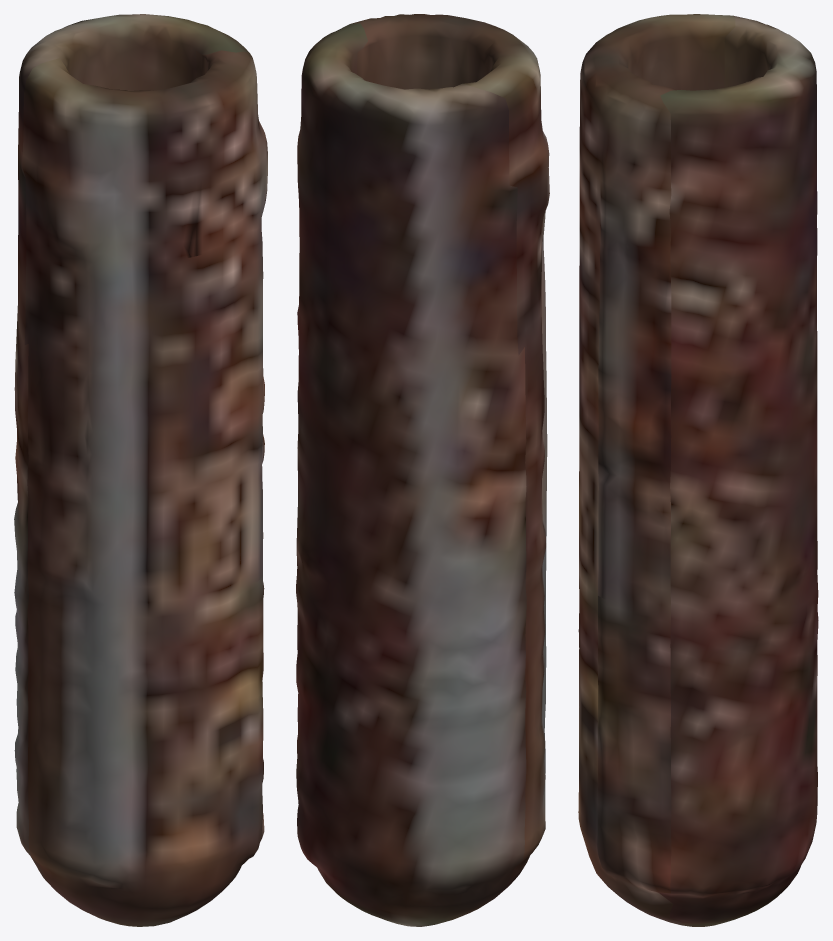
File: s03_tronco_em_pe.glb
3 views of the same model, side by side, from view 1: azimuth 30°, elevation 25°; view 2: azimuth 150°, elevation 25°; view 3: azimuth 270°, elevation 25° (orthographic).
Parts seen in each view (by area): view 1: s03_tronco_em_pe; view 2: s03_tronco_em_pe; view 3: s03_tronco_em_pe.
Part boxes in pixels (box(x1,y1,x2,y2)): s03_tronco_em_pe: box(14, 14, 267, 926); s03_tronco_em_pe: box(296, 14, 549, 926); s03_tronco_em_pe: box(578, 14, 818, 926).
Bounding box in the file's own units: 0.3377 × 1.28 × 0.3216.
1 material, 1 textured.
